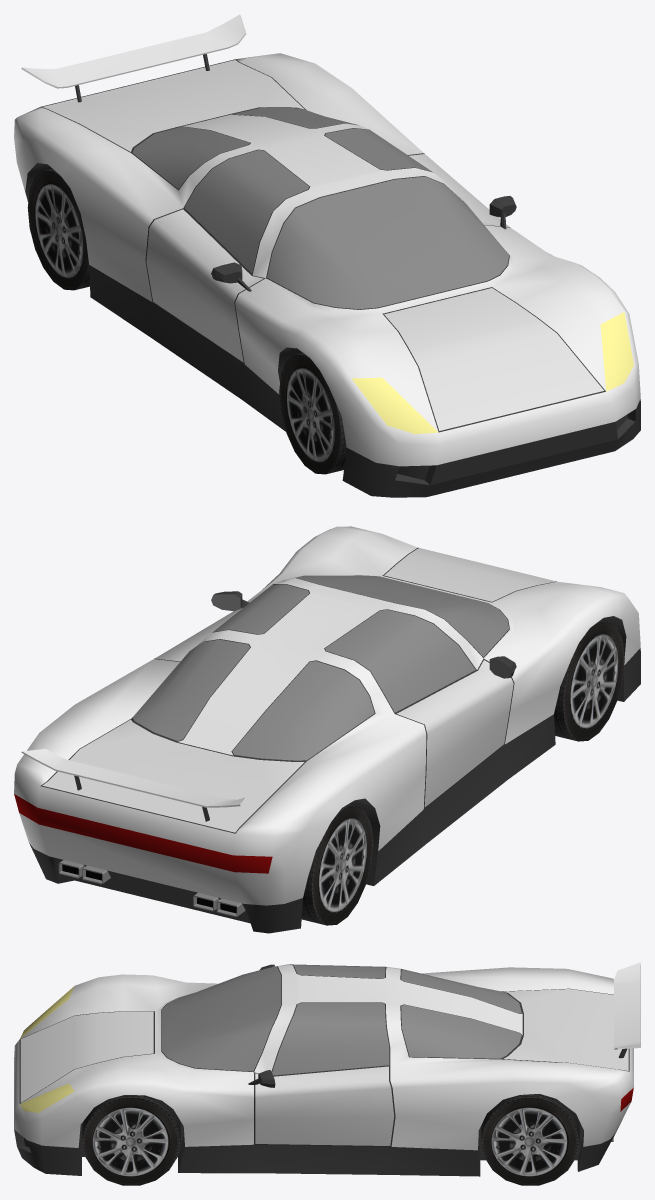
The model's file is car_13.FBX.
3 renders of one model, top to bottom at view 1: azimuth 30°, elevation 25°; view 2: azimuth 150°, elevation 25°; view 3: azimuth 270°, elevation 25°, orthographic. The views are drawn at different scales.
Visible parts, largest first — view 1: Object004, Cylinder016, Cylinder013; view 2: Object004, Cylinder013, Cylinder016; view 3: Object004, Cylinder015, Cylinder014.
Boxes of the visible parts, box(x1,y1,x2,y2) form: Object004: box(14, 14, 640, 497); Cylinder016: box(279, 352, 346, 474); Cylinder013: box(27, 168, 89, 290); Object004: box(14, 526, 640, 933); Cylinder013: box(301, 803, 373, 925); Cylinder016: box(554, 619, 624, 741); Object004: box(14, 962, 640, 1176); Cylinder015: box(481, 1094, 579, 1185); Cylinder014: box(82, 1095, 180, 1185).
Bounding box in the file's own units: 2.14 × 1.22 × 4.88.
